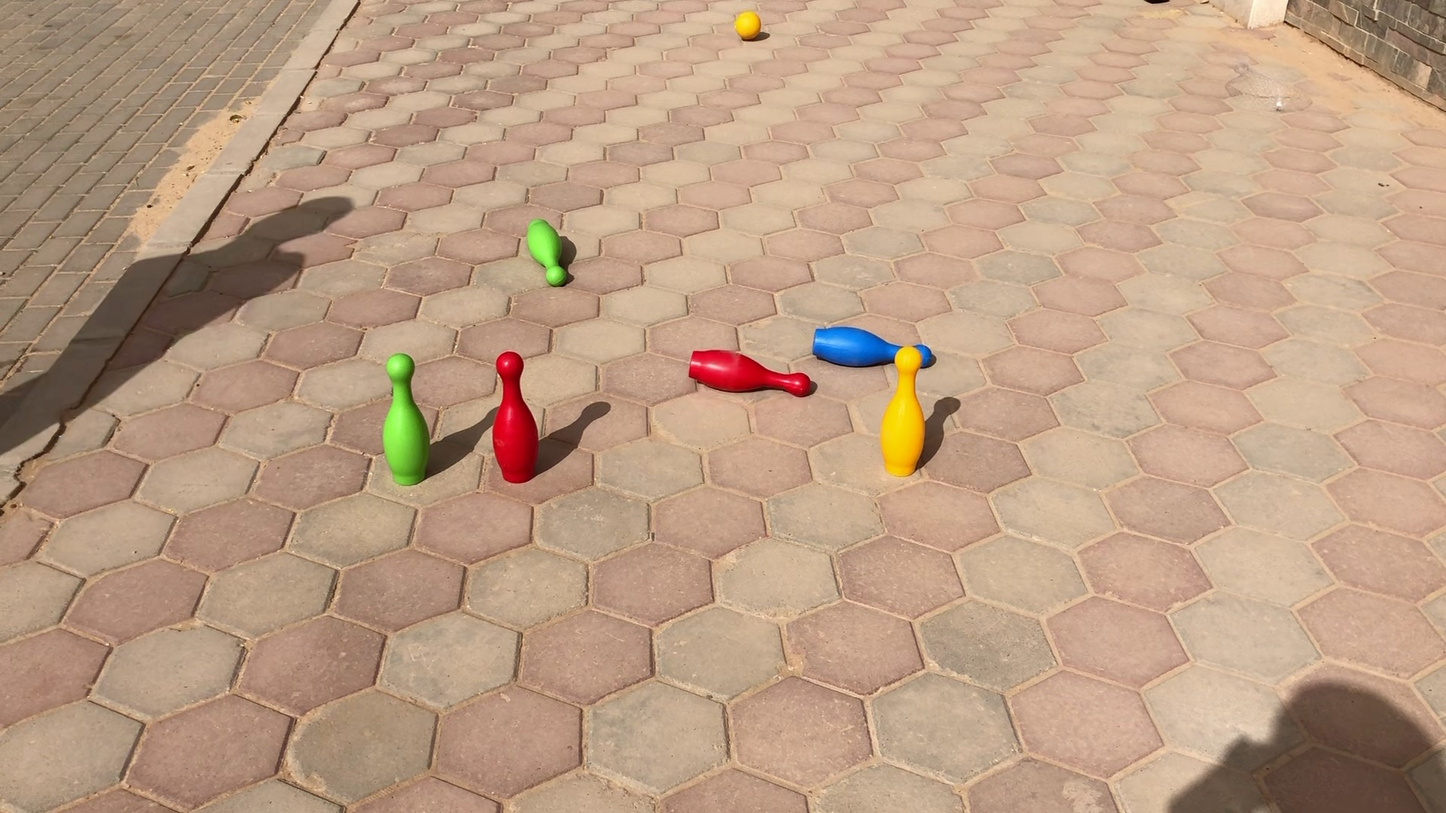bowling-pin: (381, 353, 432, 483), (490, 350, 538, 483), (688, 349, 816, 397), (881, 347, 927, 475), (812, 327, 935, 370), (525, 219, 573, 285)
